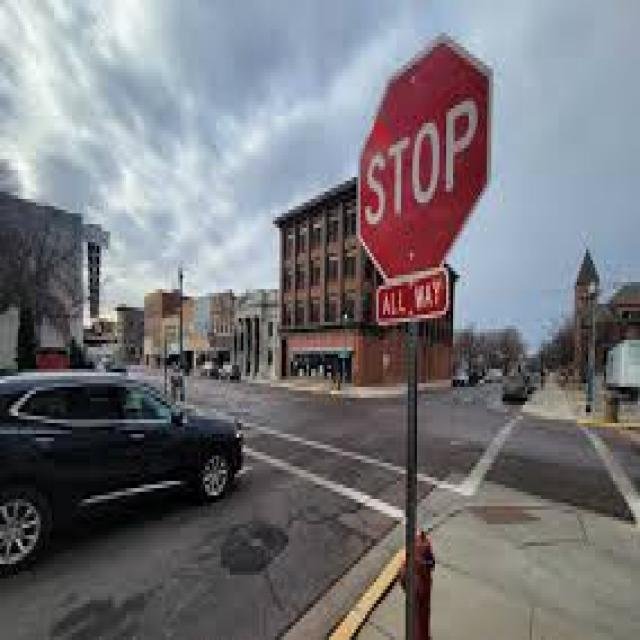stop-sign: (342, 119, 448, 253)
